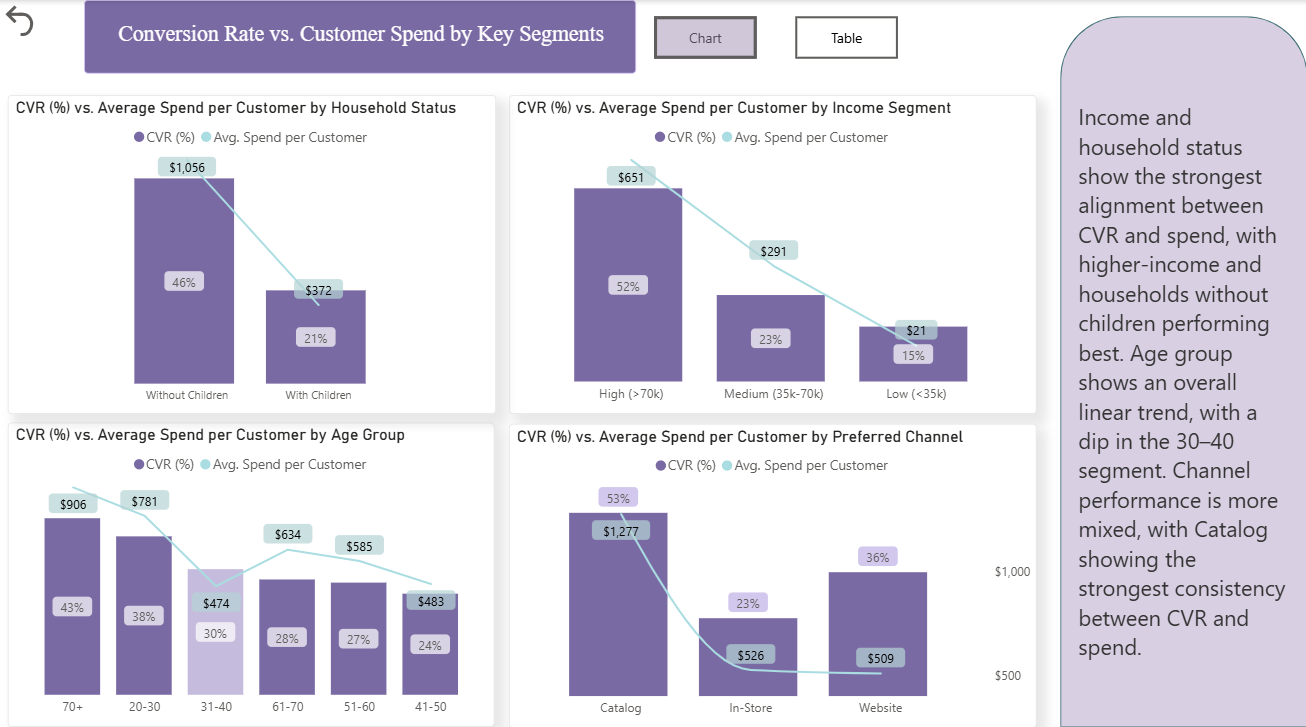

The dashboard page shown, as its layout file describes it:
{"tool":"powerbi","page":{"name":"CVR & Customer Spend ","canvas":[1280,720],"ordinal":6},"visuals":[{"type":"lineStackedColumnComboChart","title":"CVR (%) vs. Average Spend per Customer by Age Group","fields":{"Y2":["Avg(Fact Table.MntTotal)"],"Y":["_Measures.Campaign Conversion Rate overall"],"Category":["Fact Table.Age Group"]},"box":[8.9,413.6,476,297.8],"z":0},{"type":"lineStackedColumnComboChart","title":"CVR (%) vs. Average Spend per Customer  by Income Segment","fields":{"Category":["Fact Table.Income Segment"],"Y2":["Avg(Fact Table.MntWines)"],"Y":["_Measures.Campaign Conversion Rate overall"]},"box":[498.7,92.9,515.9,311.7],"z":1000},{"type":"lineStackedColumnComboChart","title":"CVR (%) vs. Average Spend per Customer by Household Status","fields":{"Category":["Fact Table.Household Status"],"Y2":["Avg(Fact Table.MntTotal)"],"Y":["_Measures.Campaign Conversion Rate overall"]},"box":[8.9,92.9,477.2,311.8],"z":2000},{"type":"lineStackedColumnComboChart","title":"CVR (%) vs. Average Spend per Customer by Preferred Channel","fields":{"Category":["Fact Table.Favorite Channel 22"],"Y2":["Avg(Fact Table.MntTotal)"],"Y":["_Measures.Campaign Conversion Rate overall"]},"box":[498.7,413.9,516,297.8],"z":3000},{"type":"shape","box":[1037.8,15.9,242,695.6],"z":8000},{"type":"actionButton","title":"Chart Button","box":[640.7,15.6,100.4,41.6],"z":9000},{"type":"actionButton","title":"Table Button","box":[779.2,15.6,100.4,41.6],"z":10000},{"type":"actionButton","title":"Chart Fill","box":[640.7,15.6,100.4,41.6],"z":11000},{"type":"textbox","box":[83.1,0,540.3,72.1],"z":13000},{"type":"actionButton","box":[0,0,74.6,40.3],"z":14000}]}

Visuals, with their boxes in screenshot pixels (x1, y1, x2, y2), scaled from the page's 1280x720 canvas onto the 1306x727 screenshot:
"CVR (%) vs. Average Spend per Customer by Age Group" lineStackedColumnComboChart: [9,418,495,718]
"CVR (%) vs. Average Spend per Customer  by Income Segment" lineStackedColumnComboChart: [509,94,1035,409]
"CVR (%) vs. Average Spend per Customer by Household Status" lineStackedColumnComboChart: [9,94,496,409]
"CVR (%) vs. Average Spend per Customer by Preferred Channel" lineStackedColumnComboChart: [509,418,1035,719]
shape: [1059,16,1305,718]
"Chart Button" actionButton: [654,16,756,58]
"Table Button" actionButton: [795,16,897,58]
"Chart Fill" actionButton: [654,16,756,58]
textbox: [85,0,636,73]
actionButton: [0,0,76,41]
